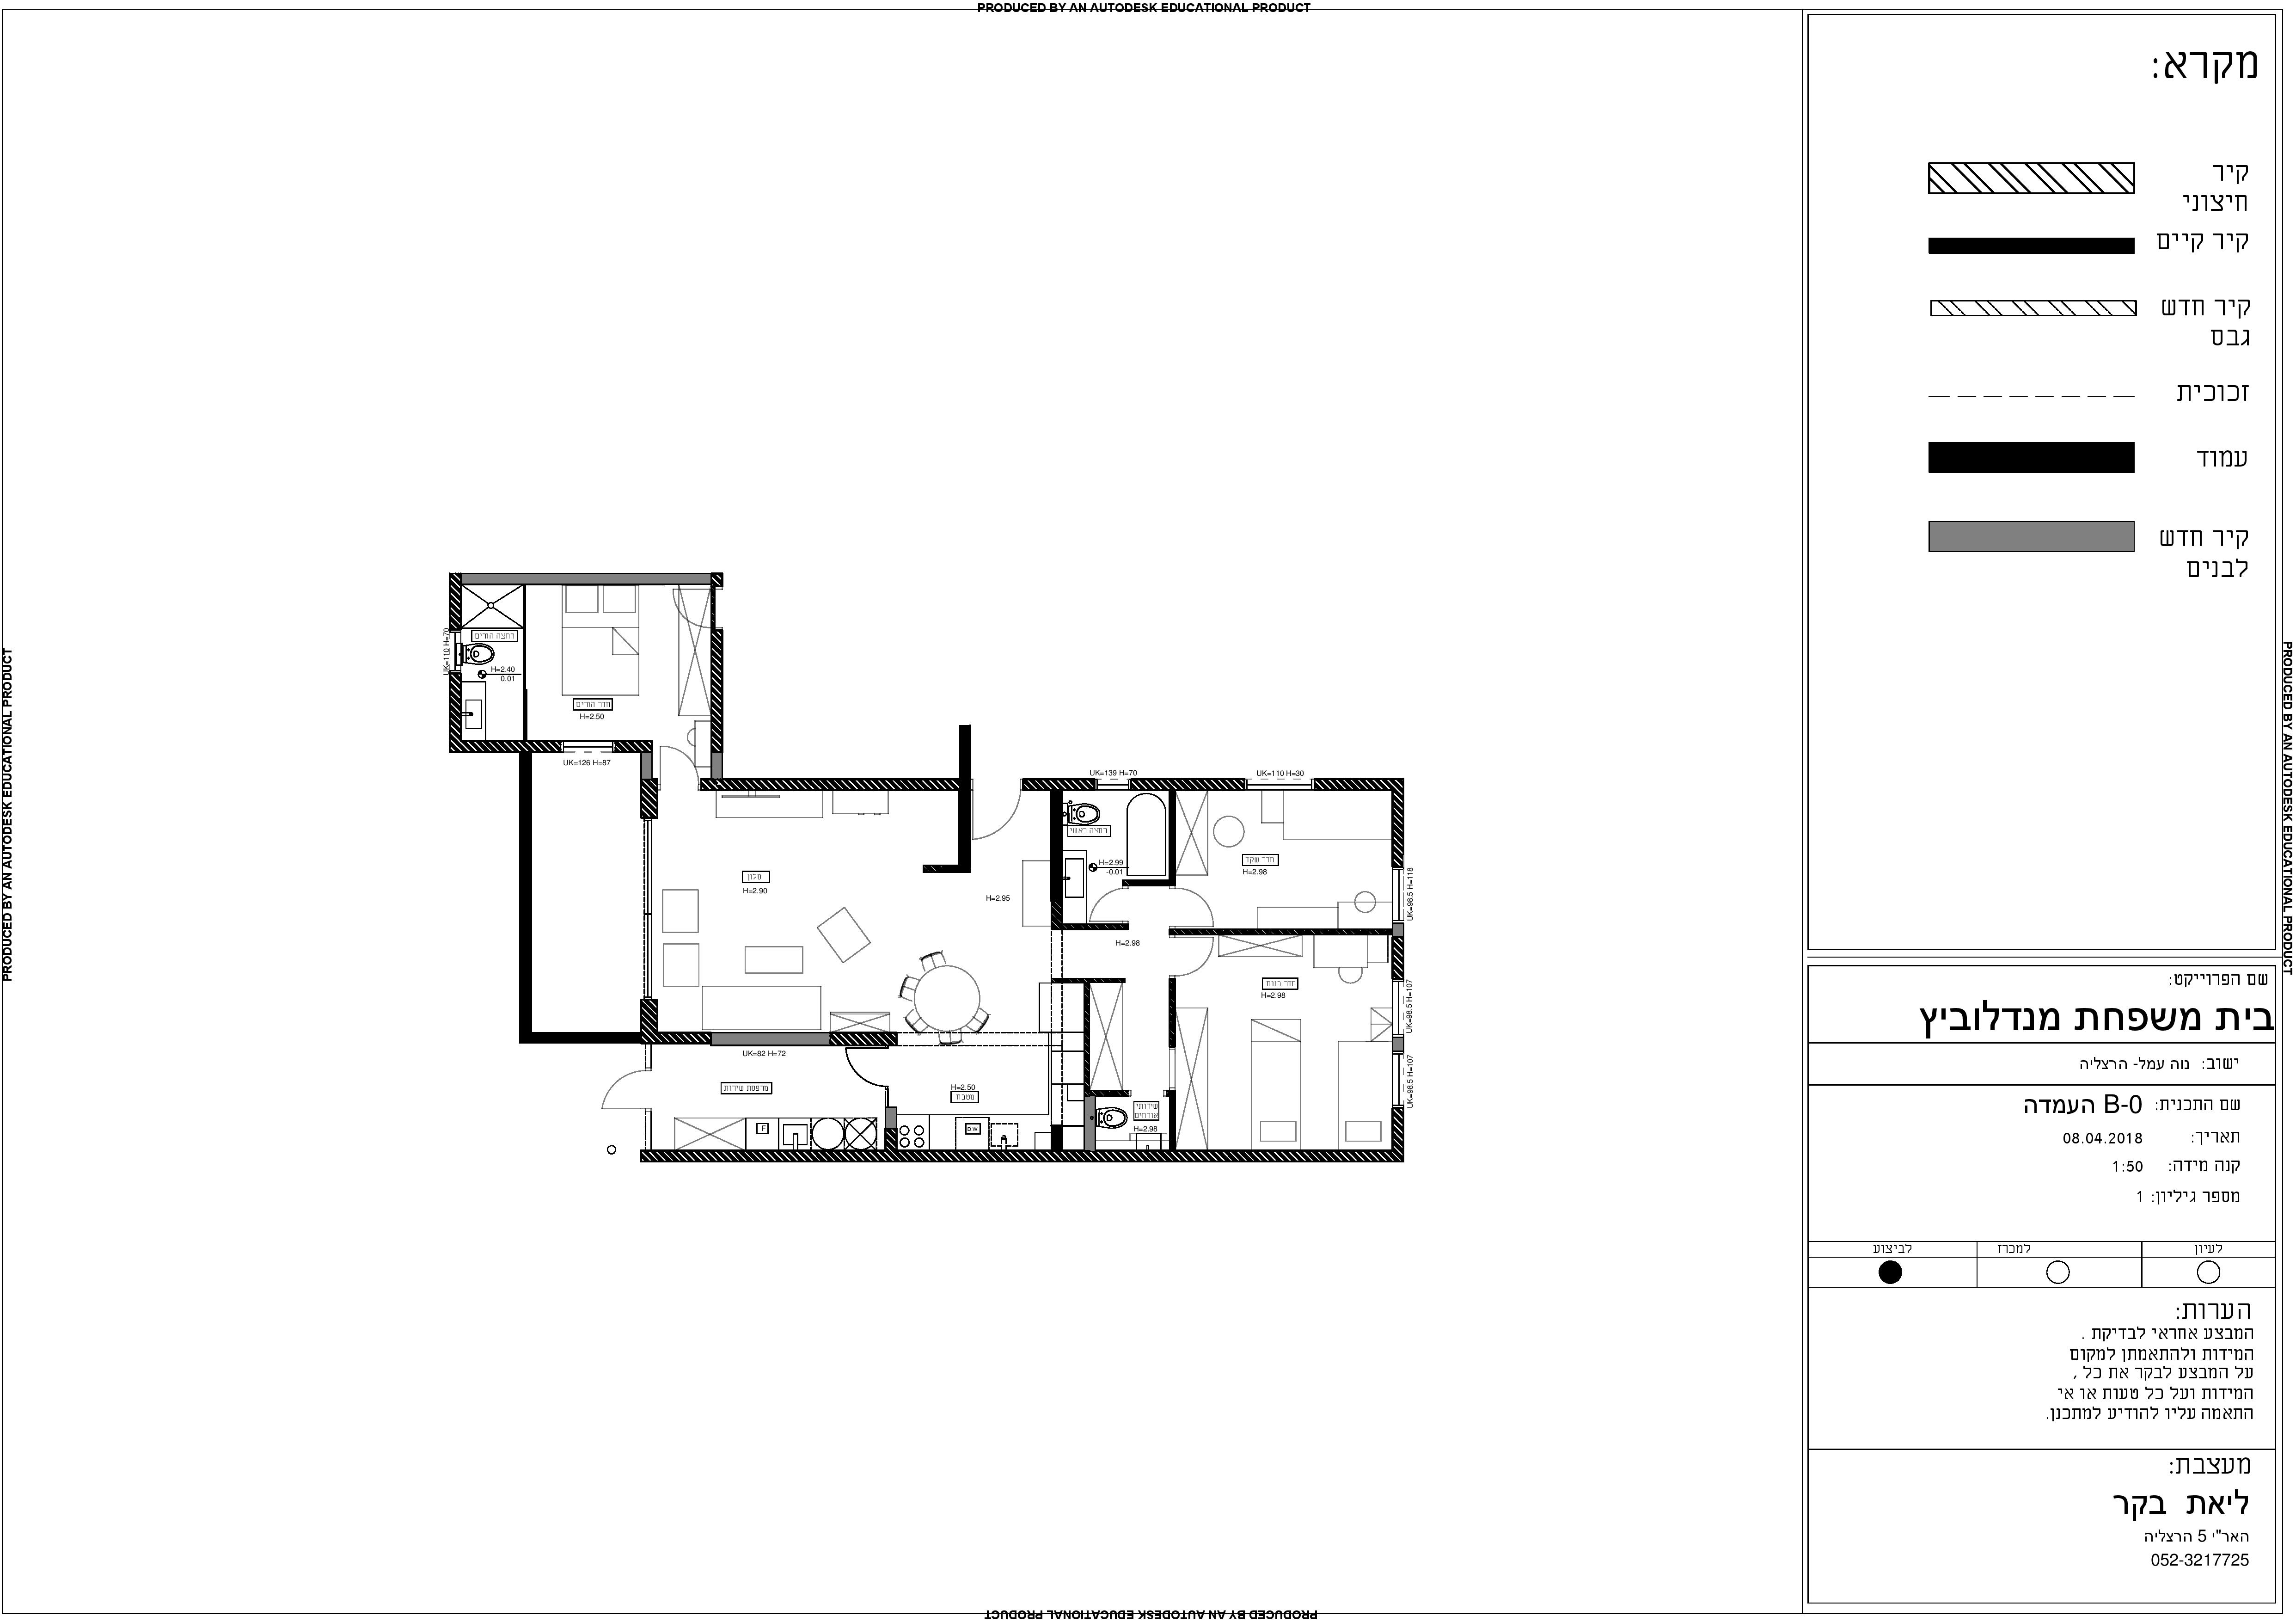door: (595, 1066, 640, 1115), (840, 1046, 886, 1095), (1177, 885, 1224, 929), (1173, 934, 1221, 976), (656, 743, 703, 781), (1084, 886, 1128, 923)
wall: (640, 1150, 1403, 1162), (700, 778, 954, 790), (710, 628, 724, 751), (828, 1032, 898, 1044), (642, 1032, 710, 1044)
window: (644, 818, 652, 999), (1247, 781, 1317, 792), (1393, 867, 1403, 923), (1393, 980, 1403, 1036), (1393, 1051, 1403, 1108), (561, 741, 614, 751), (1095, 779, 1130, 790)
